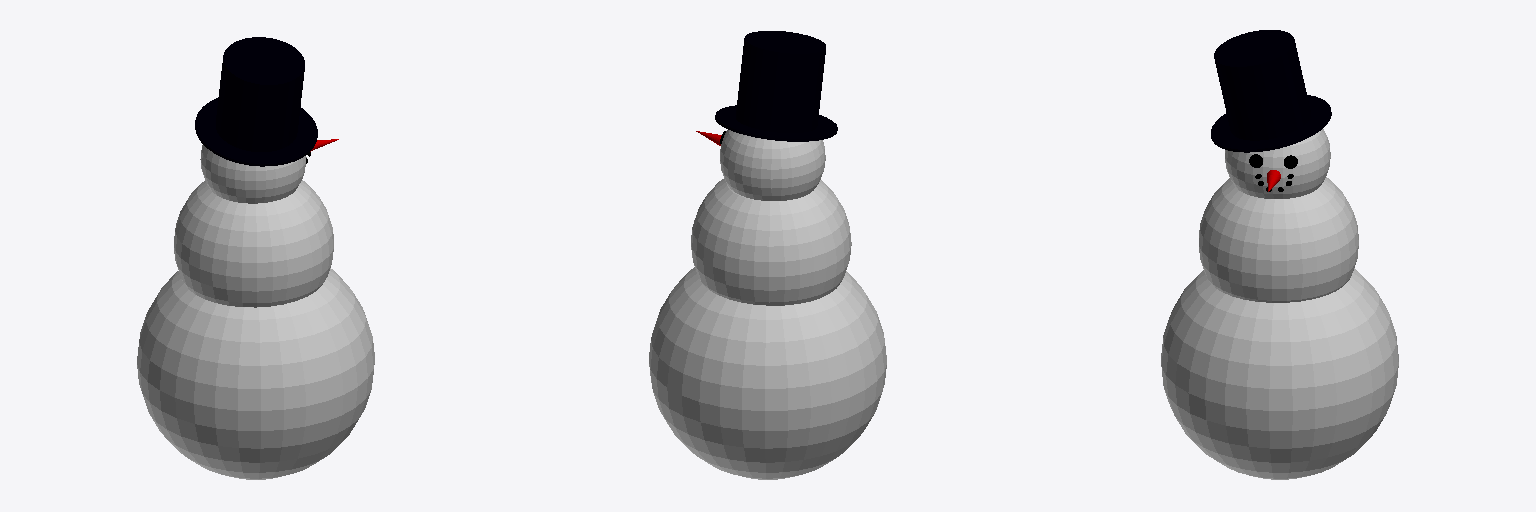
File: snowman.obj
3 renders of one model, left to right at view 1: azimuth 30°, elevation 25°; view 2: azimuth 150°, elevation 25°; view 3: azimuth 270°, elevation 25°, orthographic.
Parts seen in each view (by area): view 1: Сфера.008_Сфера.013; view 2: Сфера.008_Сфера.013; view 3: Сфера.008_Сфера.013.
Boxes of the visible parts, x1,y1,x2,y2 form: Сфера.008_Сфера.013: [137, 37, 374, 479]; Сфера.008_Сфера.013: [649, 31, 886, 479]; Сфера.008_Сфера.013: [1161, 30, 1398, 479].
Size of the model in its own units: 90.94 by 180 by 90.94.